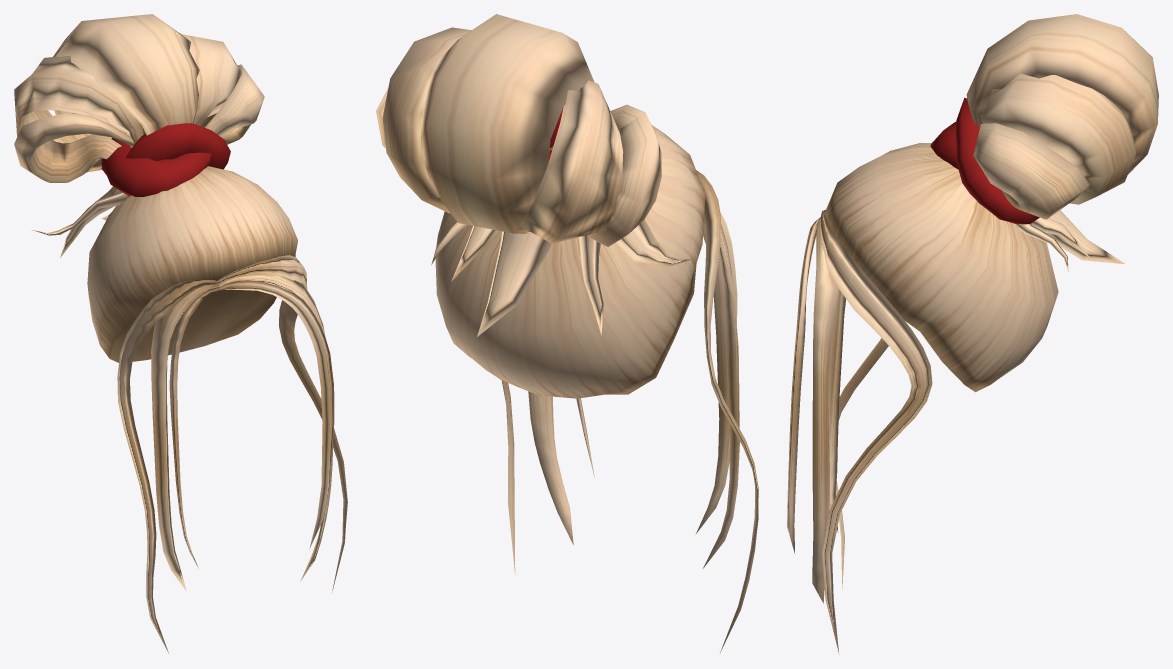
The model's file is Girl_Hair_01.fbx.
3 renders of one model, left to right at view 1: azimuth 30°, elevation 25°; view 2: azimuth 150°, elevation 25°; view 3: azimuth 270°, elevation 25°, orthographic. The views are drawn at different scales.
Visible parts, largest first — view 1: Girl_Hair_01; view 2: Girl_Hair_01; view 3: Girl_Hair_01.
Boxes of the visible parts, x1,y1,x2,y2 form: Girl_Hair_01: [14, 14, 347, 653]; Girl_Hair_01: [376, 14, 758, 652]; Girl_Hair_01: [787, 14, 1158, 654].
Size of the model in its own units: 36.21 by 80.87 by 45.52.
